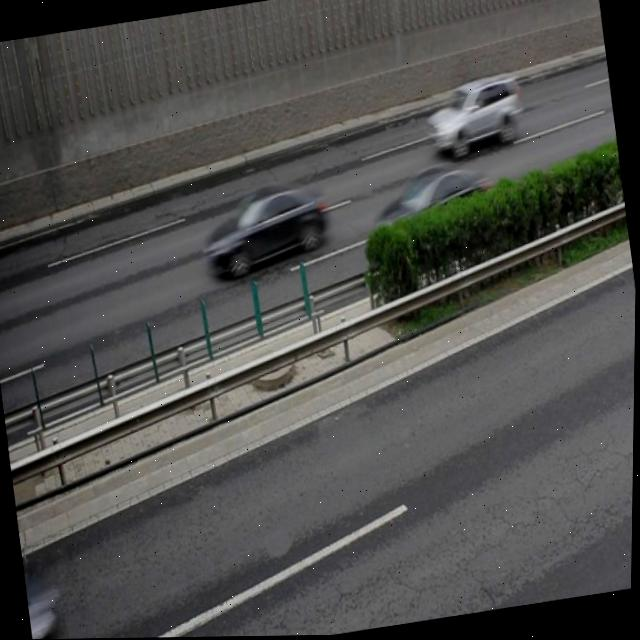car: (199, 185, 334, 279), (365, 162, 493, 261), (422, 71, 525, 162)
